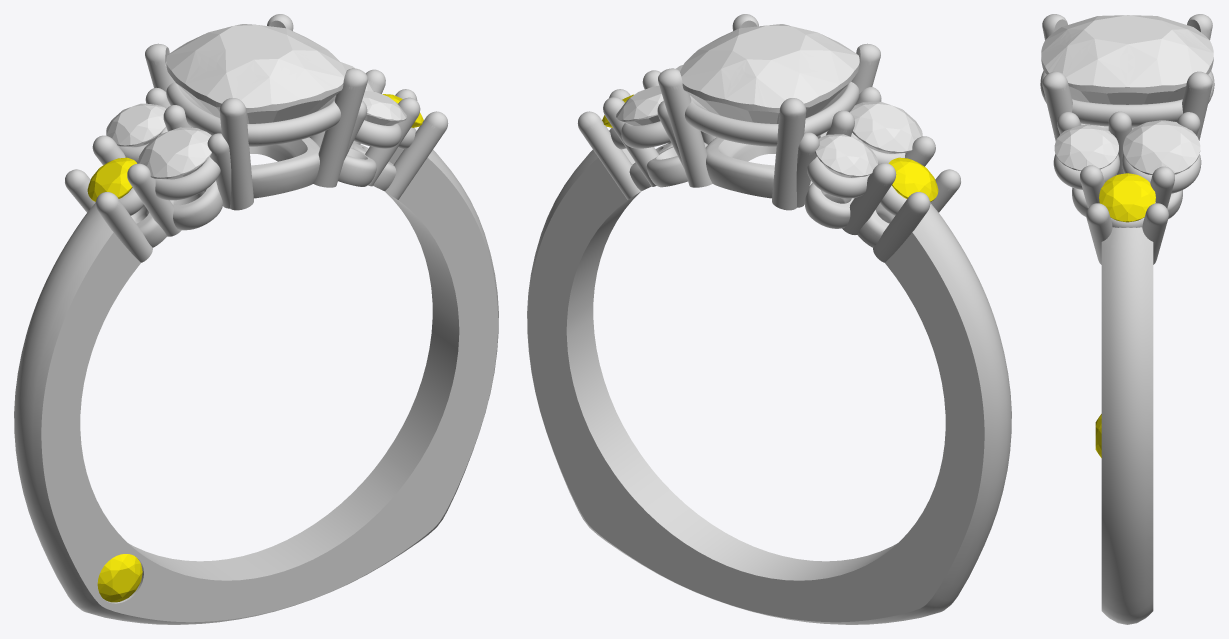
File: MarcSarahRRcluster.glb
The picture shows the model from 3 angles, left to right: view 1: azimuth 30°, elevation 25°; view 2: azimuth 150°, elevation 25°; view 3: azimuth 270°, elevation 25°; orthographic projection. The views are drawn at different scales.
Parts seen in each view (by area): view 1: Marc and sarah PT for 3d model mesh, Marc and sarah center dia for 3d model, Marc and sarah dia for 3d model.002, Marc and sarah dia for 3d model.003, Marc and sarah yellow sapphire for 3d model, Marc and sarah yellow sapphire for 3d model.002, Marc and sarah dia for 3d model.001; view 2: Marc and sarah PT for 3d model mesh, Marc and sarah center dia for 3d model, Marc and sarah dia for 3d model.002, Marc and sarah dia for 3d model.003, Marc and sarah yellow sapphire for 3d model.002, Marc and sarah dia for 3d model; view 3: Marc and sarah PT for 3d model mesh, Marc and sarah center dia for 3d model, Marc and sarah dia for 3d model, Marc and sarah dia for 3d model.001, Marc and sarah yellow sapphire for 3d model.001.
Boxes of the visible parts, bbox=[...] form: Marc and sarah PT for 3d model mesh: bbox=[14, 14, 498, 624]; Marc and sarah center dia for 3d model: bbox=[166, 24, 345, 123]; Marc and sarah dia for 3d model.002: bbox=[138, 127, 211, 179]; Marc and sarah dia for 3d model.003: bbox=[106, 103, 165, 147]; Marc and sarah yellow sapphire for 3d model: bbox=[97, 554, 142, 602]; Marc and sarah yellow sapphire for 3d model.002: bbox=[87, 157, 136, 201]; Marc and sarah dia for 3d model.001: bbox=[362, 90, 406, 125]; Marc and sarah PT for 3d model mesh: bbox=[527, 14, 1011, 624]; Marc and sarah center dia for 3d model: bbox=[680, 24, 859, 123]; Marc and sarah dia for 3d model.002: bbox=[850, 101, 922, 153]; Marc and sarah dia for 3d model.003: bbox=[815, 134, 877, 177]; Marc and sarah yellow sapphire for 3d model.002: bbox=[888, 157, 938, 201]; Marc and sarah dia for 3d model: bbox=[616, 85, 663, 125]; Marc and sarah PT for 3d model mesh: bbox=[1040, 14, 1214, 624]; Marc and sarah center dia for 3d model: bbox=[1041, 15, 1213, 127]; Marc and sarah dia for 3d model: bbox=[1123, 120, 1200, 174]; Marc and sarah dia for 3d model.001: bbox=[1054, 124, 1118, 170]; Marc and sarah yellow sapphire for 3d model.001: bbox=[1099, 173, 1155, 222].
Size of the model in its own units: 20.69 by 23.67 by 6.75.
